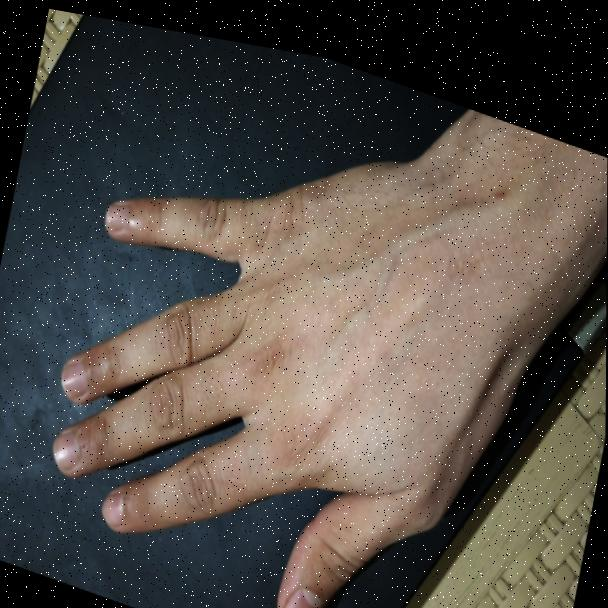five: (23, 132, 470, 608)
